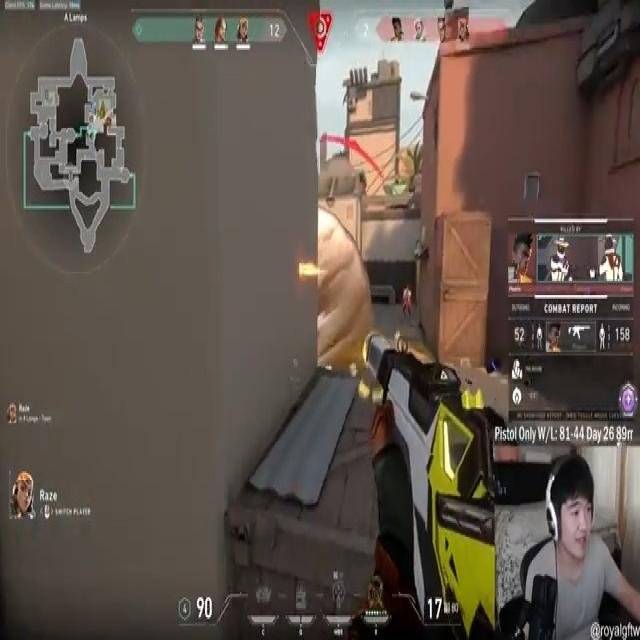enemy: (401, 284, 414, 322)
smoke: (318, 202, 373, 380)
